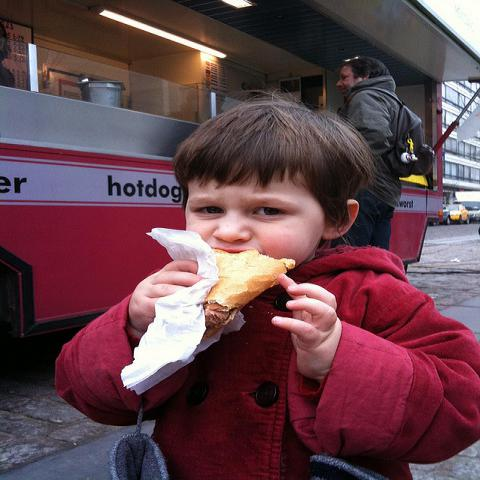car: (446, 204, 471, 224), (444, 204, 450, 225)
